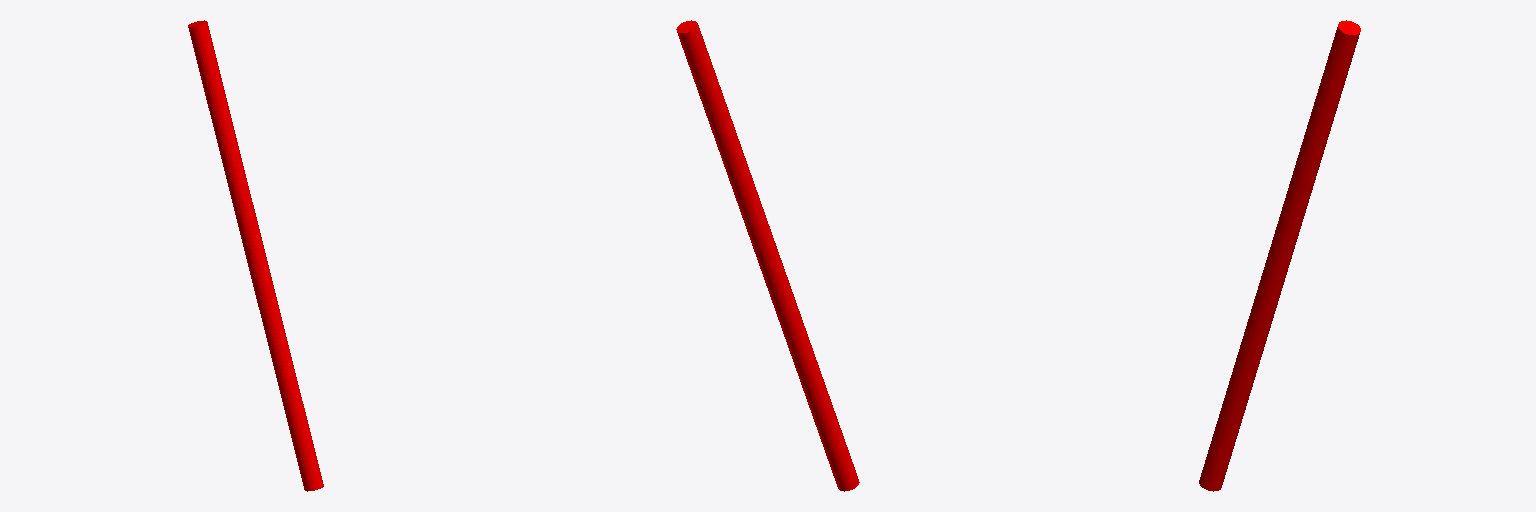
The robot description file, URDF, robot "tree_79.urdf":
<?xml version='1.0' encoding='utf-8'?>
<robot name="tree_79.urdf">
  <link name="branch_0">
    <inertial>
      <origin xyz="0.0 0.0 0.0" rpy="0.0 -0.0 0.0" />
      <mass value="1.0" />
      <inertia ixx="1.0" ixy="0.0" ixz="0.0" iyy="1.0" iyz="0.0" izz="1.0" />
    </inertial>
    <visual name="branch_0_visual">
      <geometry>
        <cylinder radius="0.06759224424591168" length="3.3618454669727367" />
      </geometry>
      <material name="semantic_material" />
      <origin xyz="0.3289064155542912 0.39913958216703677 1.599377816435515" rpy="5.551115123125783e-17 0.31275992833024335 0.8815686115426831" />
    </visual>
    <collision name="branch_0_collision">
      <geometry>
        <cylinder radius="0.06759224424591168" length="3.3618454669727367" />
      </geometry>
      <origin xyz="0.3289064155542912 0.39913958216703677 1.599377816435515" rpy="5.551115123125783e-17 0.31275992833024335 0.8815686115426831" />
    </collision>
  </link>
  <material name="semantic_material">
    <color rgba="1. 0. 0. 1." />
  </material>
</robot>

--- Facts derived from the render (not from the file) ---
The picture shows the robot from 3 angles, left to right: view 1: azimuth 90°, elevation 25°; view 2: azimuth 150°, elevation 25°; view 3: azimuth 270°, elevation 25°; orthographic projection.
Robot: tree_79.urdf — 1 links, 0 joints (none); root link branch_0; default pose: every joint at zero.
Links seen in each view (by area): view 1: branch_0; view 2: branch_0; view 3: branch_0.
Boxes of the visible links, x1,y1,x2,y2 form: branch_0: (188, 20, 323, 491); branch_0: (676, 20, 859, 491); branch_0: (1199, 20, 1360, 491).
Bounding box of the posed robot: 0.79 × 0.9293 × 3.24 m (x, y, z).
Geometry: primitives only (box / cylinder / sphere), no mesh files.